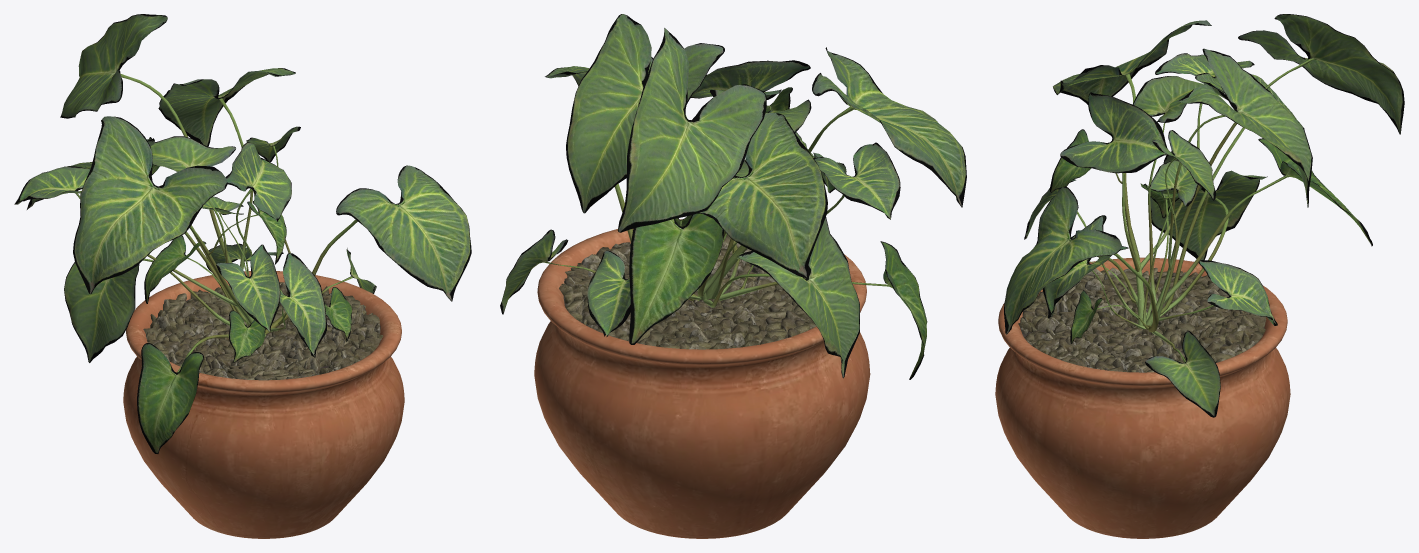
Rendered from potted_plant_02.glb.
3 renders of one model, left to right at view 1: azimuth 30°, elevation 25°; view 2: azimuth 150°, elevation 25°; view 3: azimuth 270°, elevation 25°, orthographic. The views are drawn at different scales.
Parts seen in each view (by area): view 1: potted_plant_02_leaves, potted_plant_02_pot; view 2: potted_plant_02_leaves, potted_plant_02_pot; view 3: potted_plant_02_pot, potted_plant_02_leaves.
Part boxes in pixels (bbox=[...]): potted_plant_02_leaves: bbox=[14, 14, 471, 453]; potted_plant_02_pot: bbox=[123, 271, 404, 538]; potted_plant_02_leaves: bbox=[500, 14, 966, 379]; potted_plant_02_pot: bbox=[534, 219, 870, 538]; potted_plant_02_pot: bbox=[995, 257, 1290, 538]; potted_plant_02_leaves: bbox=[1004, 14, 1404, 417].
Bounding box in the file's own units: 0.7009 × 0.8412 × 0.6574.
2 materials, 2 textured.
